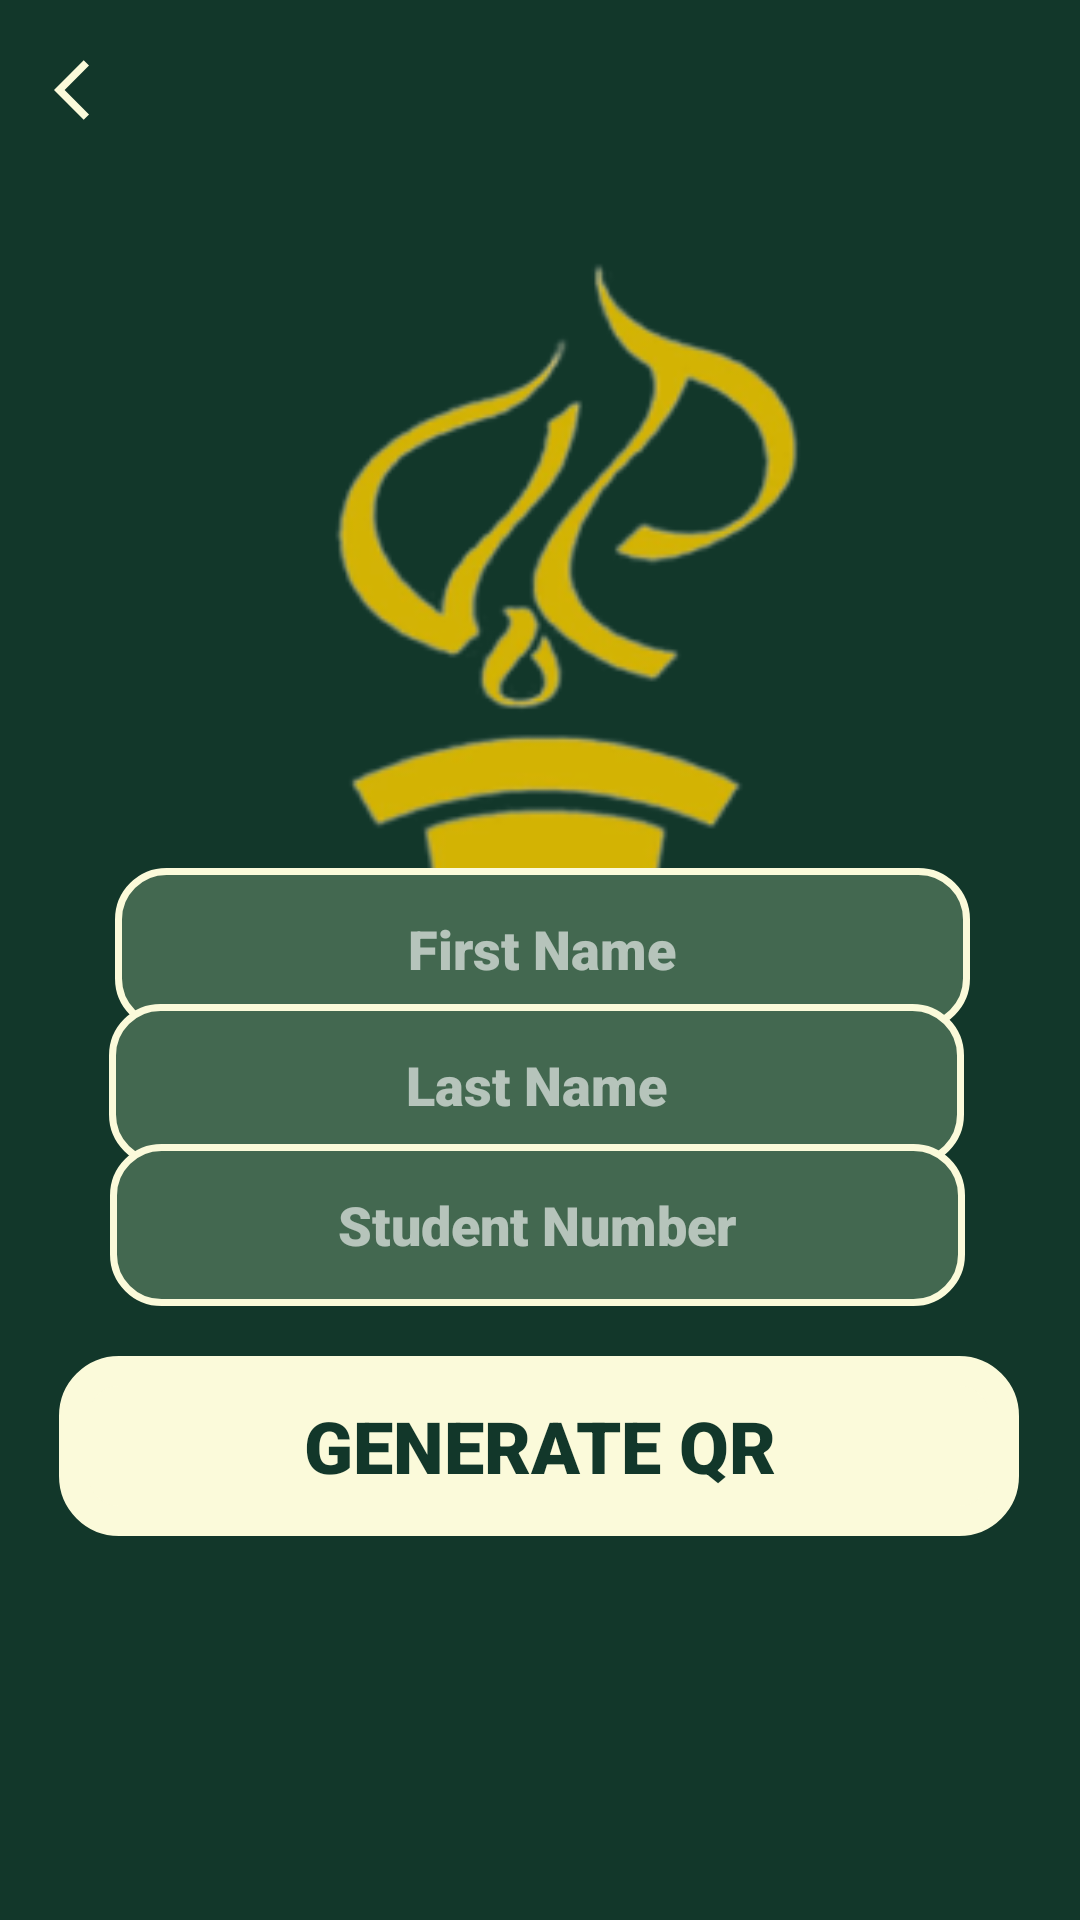

Icons on this 1080×1920 Android screen, each with its box as (x1, y1, x2, y2):
arrow back: (54, 60, 89, 120)
